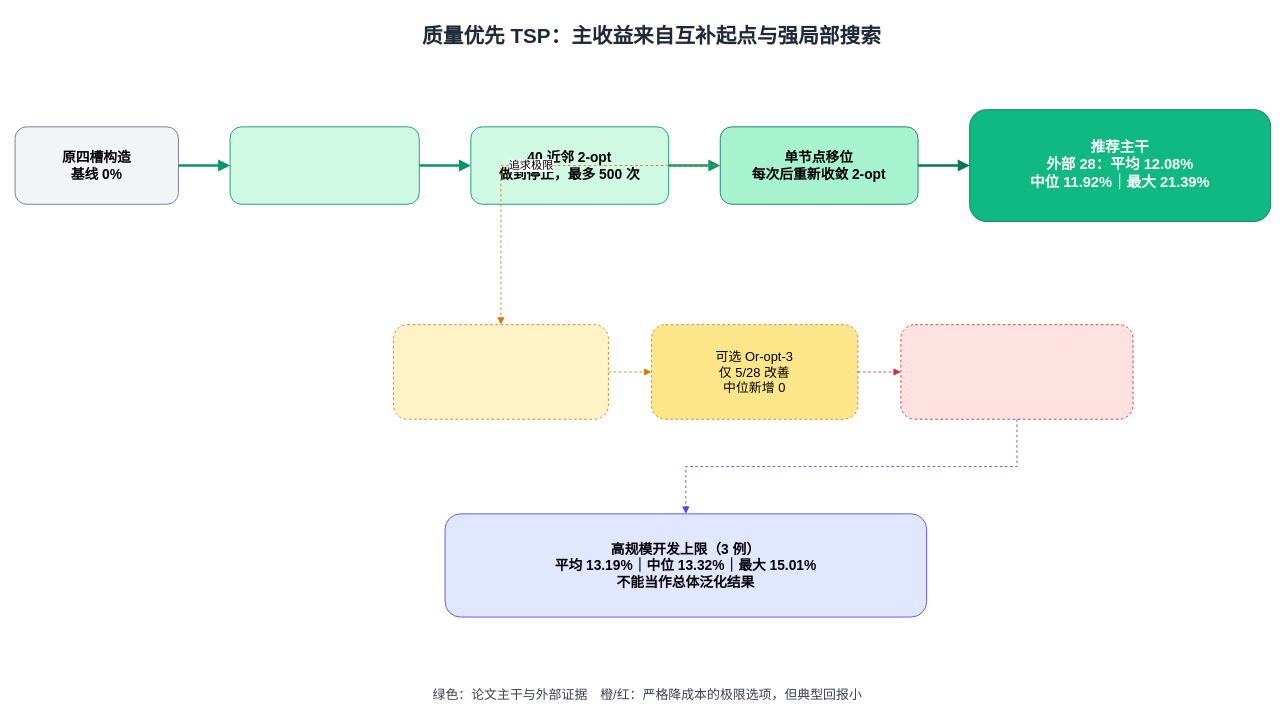
Image size: 1286x726. Some labels were removed from this diagram. The shapes that lost their labels are listed below. From the top down, each one's centre as x and y in pixels, then its label:
(x=324, y=165): 12 槽互补构造 外部平均 +3.82%
(x=500, y=371): 可选 Or-opt-2 外部新增中位 0.032% 总体门槛失败
(x=1016, y=371): 可选 8 次强扰动 高规模新增中位 0.062% 门槛失败
